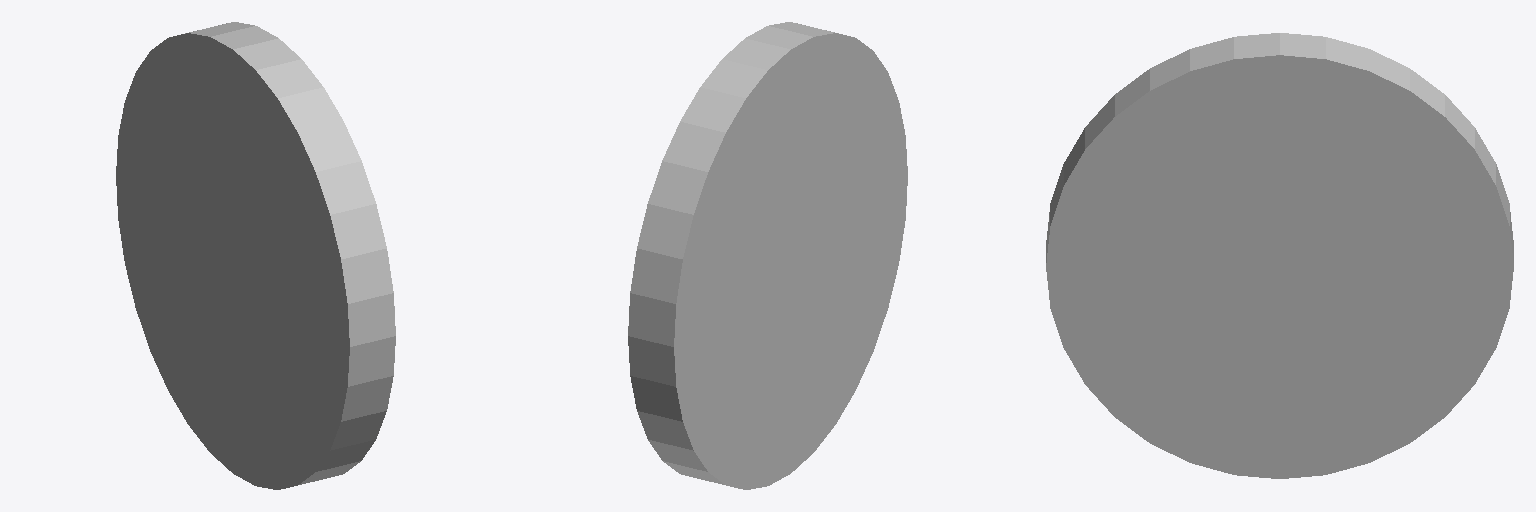
The model's file is Change.obj.
The picture shows the model from 3 angles: view 1: azimuth 30°, elevation 25°; view 2: azimuth 150°, elevation 25°; view 3: azimuth 270°, elevation 25°; orthographic projection.
Parts seen in each view (by area): view 1: Cylinder; view 2: Cylinder; view 3: Cylinder.
Boxes of the visible parts, <box> form: Cylinder: <box>116,22,395,489</box>; Cylinder: <box>628,22,907,489</box>; Cylinder: <box>1046,33,1513,478</box>.
Bounding box in the file's own units: 0.2274 × 2 × 2.